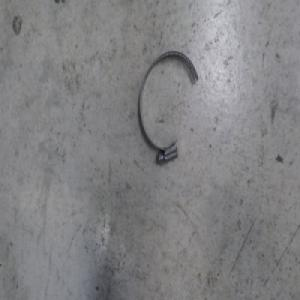AdjustableClamp: (137, 49, 200, 166)
